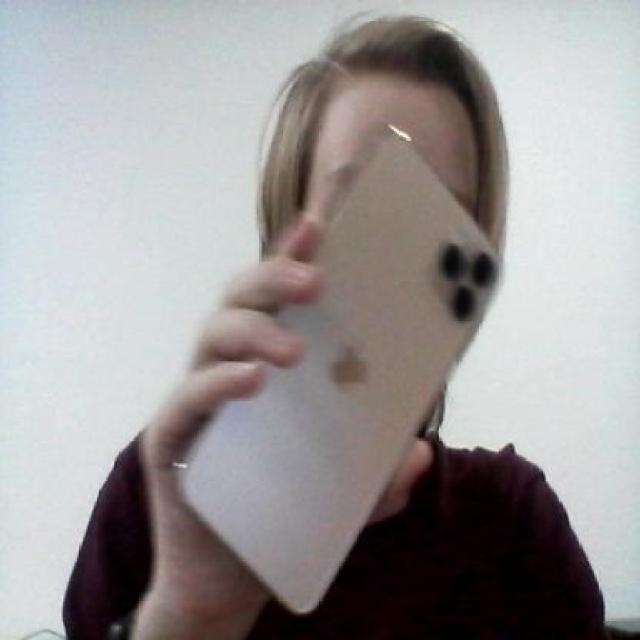mobile: (172, 131, 503, 629)
